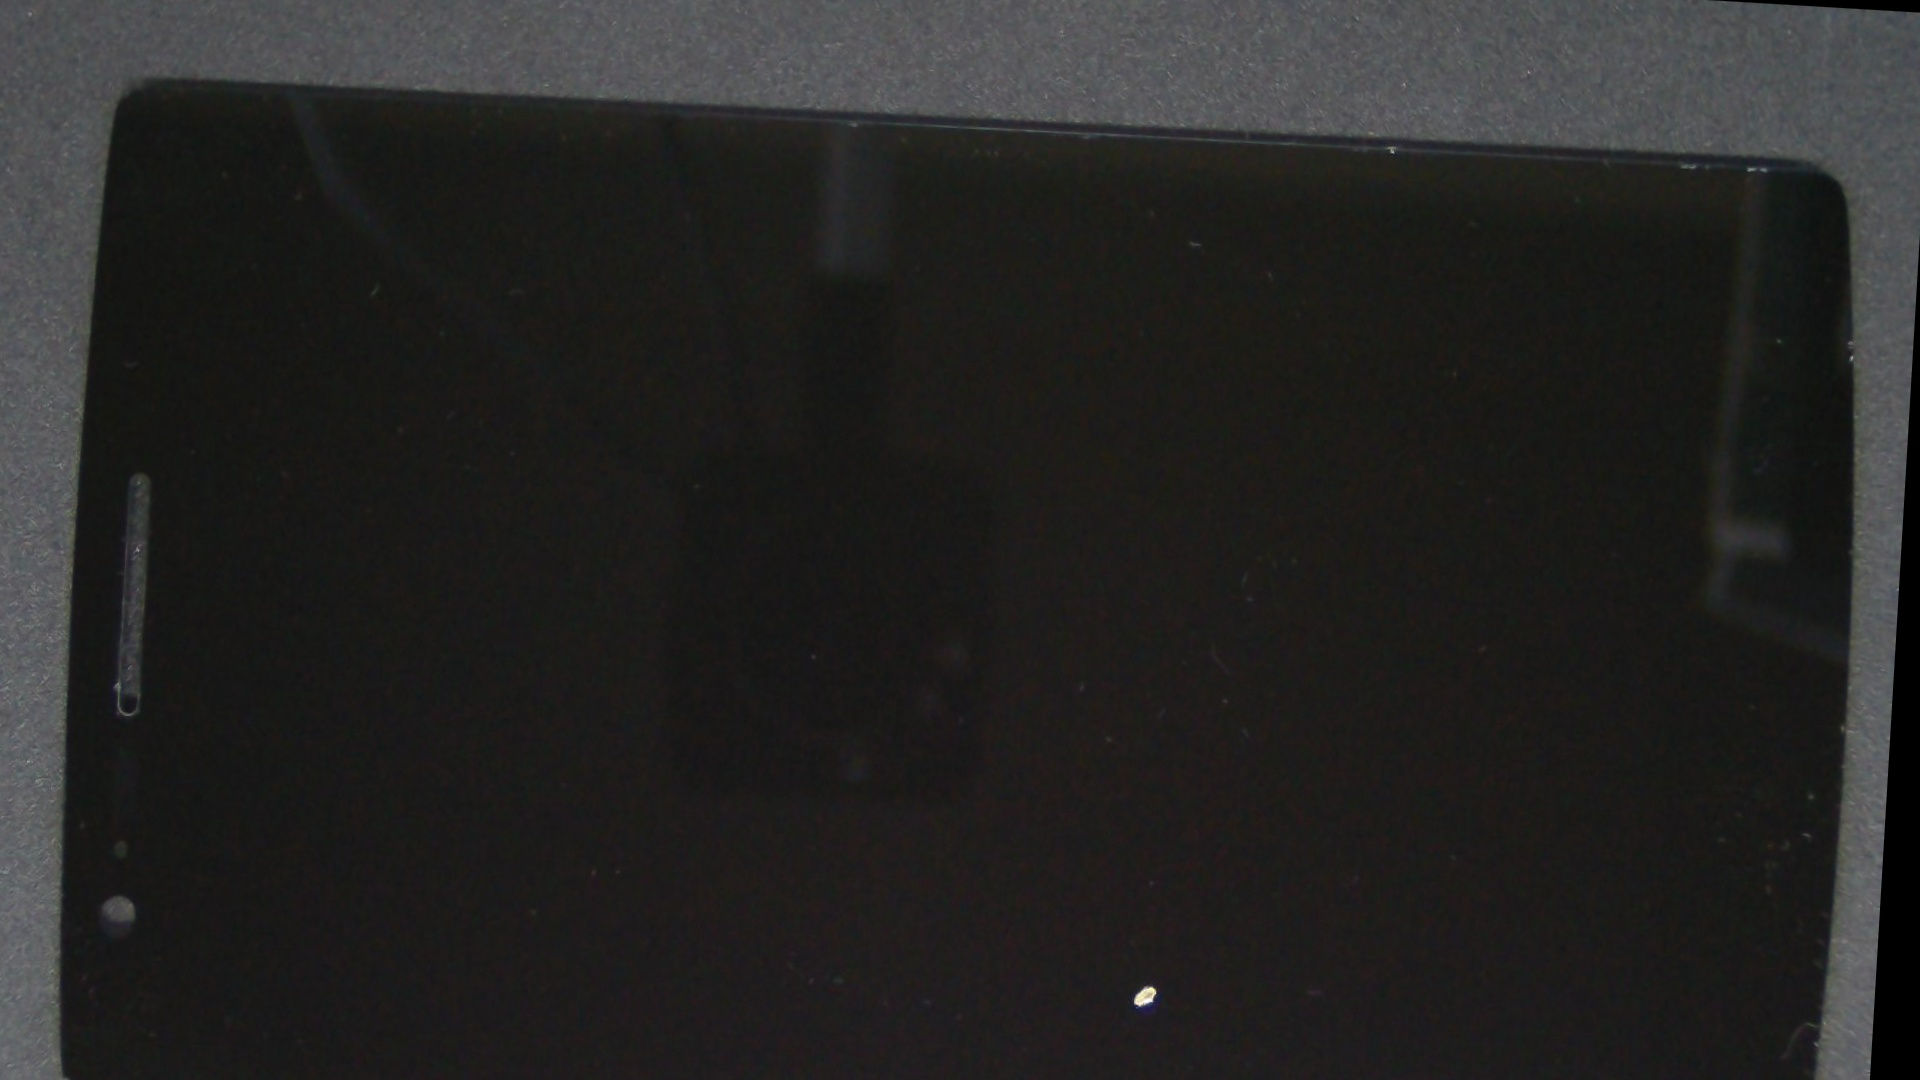oil: (518, 440, 1811, 1080)
